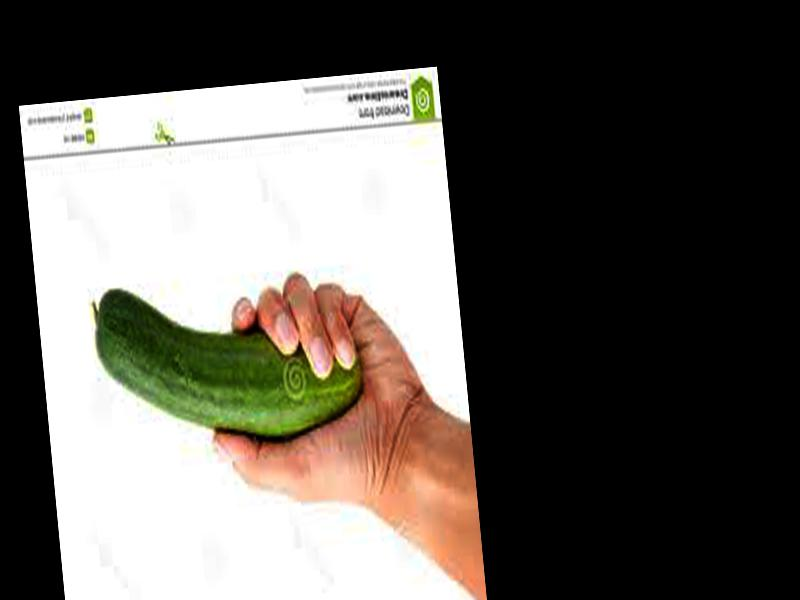Cucumber: (89, 266, 366, 450)
